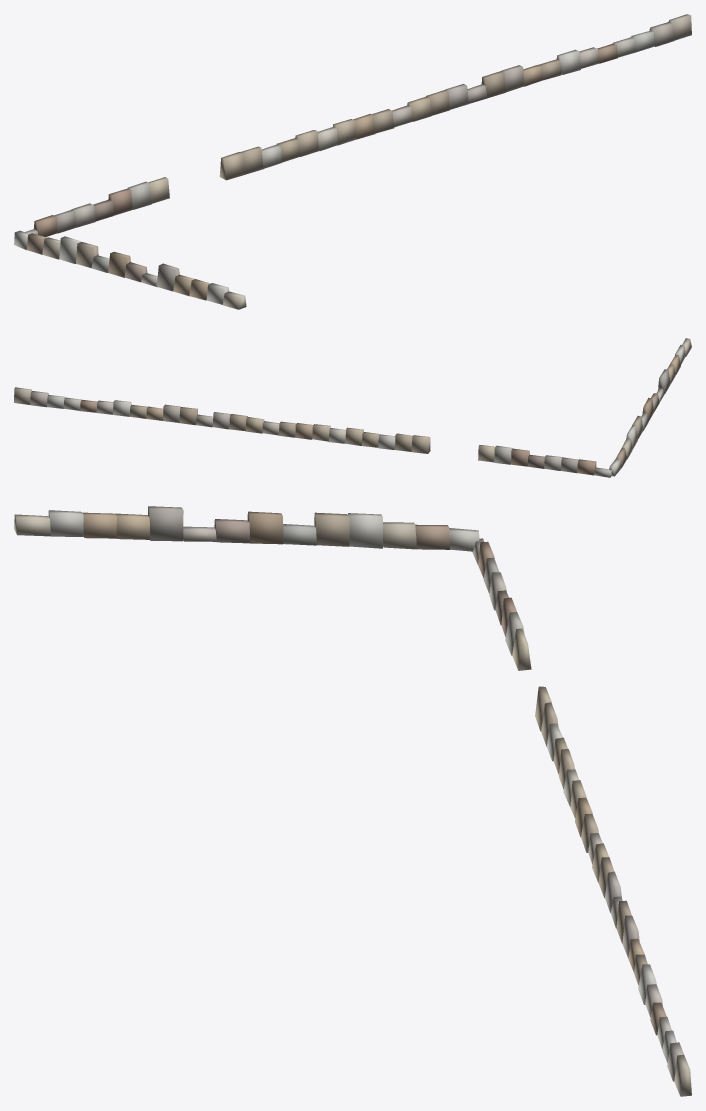
File: farm_21_19_far.glb
3 views of the same model, one above another, from view 1: azimuth 30°, elevation 25°; view 2: azimuth 150°, elevation 25°; view 3: azimuth 270°, elevation 25° (orthographic). The views are drawn at different scales.
Parts seen in each view (by area): view 1: geometry_0; view 2: geometry_0; view 3: geometry_0.
Part boxes in pixels (x1,y1,x2,y2): geometry_0: [14, 14, 691, 309]; geometry_0: [14, 338, 691, 477]; geometry_0: [14, 506, 691, 1096].
Bounding box in the file's own units: 56.59 × 5.76 × 31.58.
